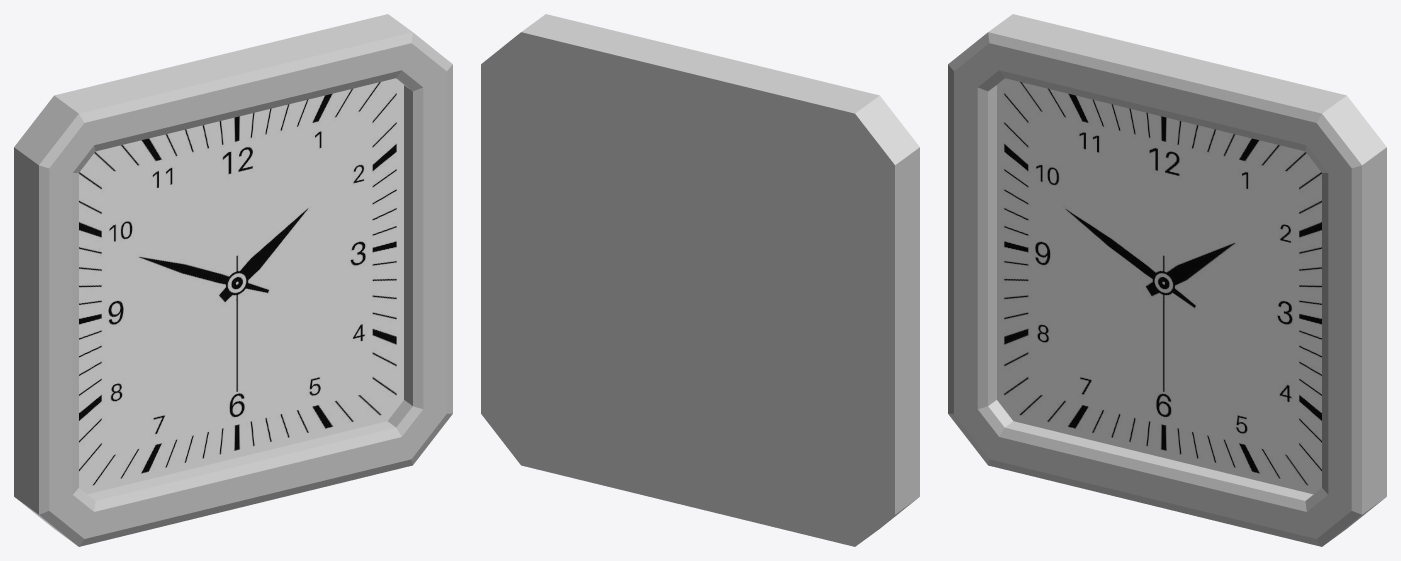
Rendered from Clock.fbx.
The picture shows the model from 3 angles, left to right: view 1: azimuth 30°, elevation 25°; view 2: azimuth 150°, elevation 25°; view 3: azimuth 330°, elevation 25°; orthographic projection.
Parts seen in each view (by area): view 1: Clock; view 2: Clock; view 3: Clock.
Boxes of the visible parts, bbox=[...] form: Clock: bbox=[14, 14, 452, 546]; Clock: bbox=[481, 14, 919, 546]; Clock: bbox=[948, 14, 1386, 546].
Size of the model in its own units: 56.86 by 56.86 by 6.4.
